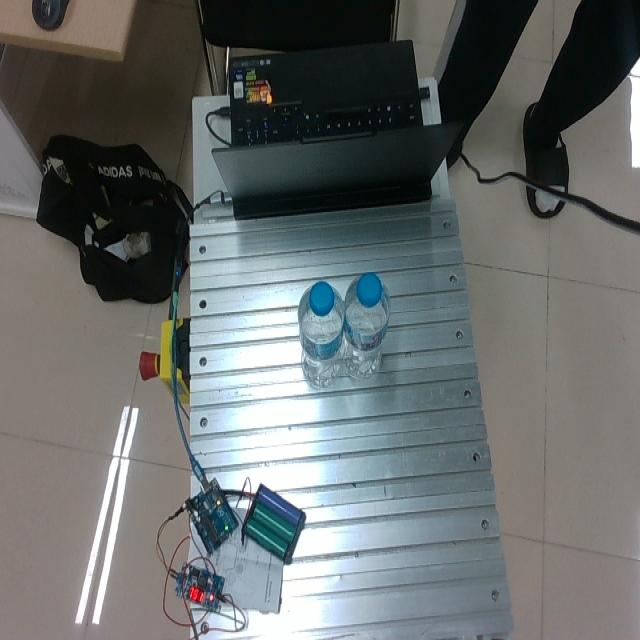lavie: (297, 280, 347, 389), (342, 272, 389, 380)
